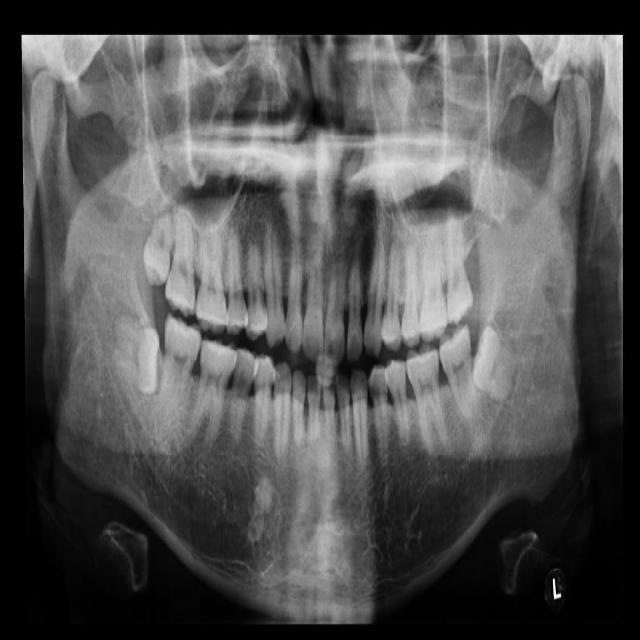3M ESPE Implant: (140, 191, 176, 287)
73: (584, 512, 588, 522)
BioHorizons Implant: (445, 213, 474, 325)
Biomet 3i Implant: (459, 325, 534, 406)
Blue Sky Bio Implant: (435, 320, 482, 428)
Caries: (162, 206, 197, 319)
Implant: (154, 312, 204, 441)
Keystone Dental Implant: (110, 313, 160, 396)
